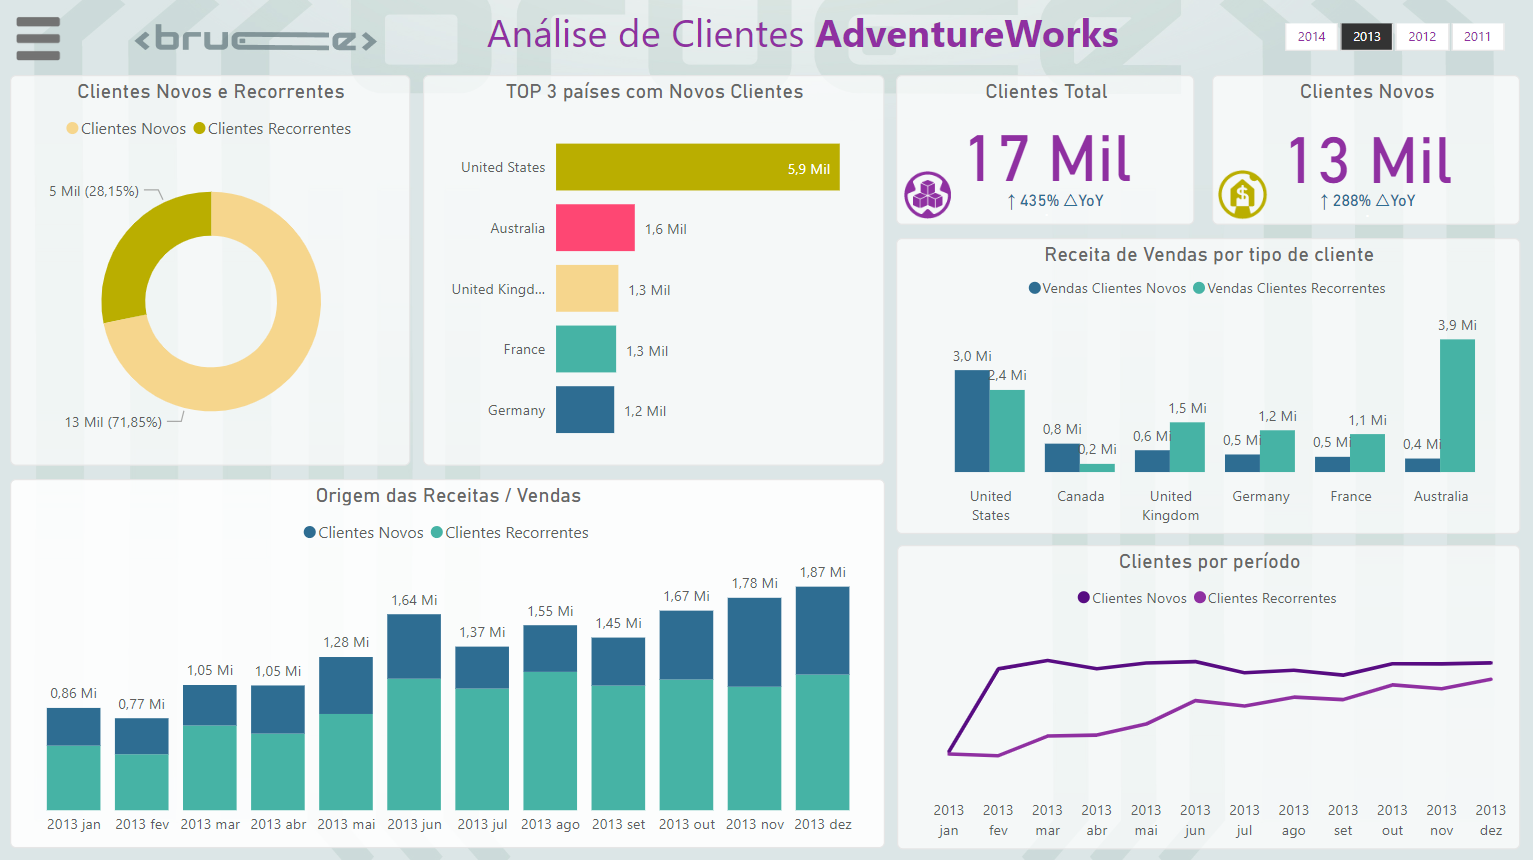

Layout of this report page (visuals, bound fields, positions):
{"tool":"powerbi","page":{"name":"Clientes AdventureWorks","canvas":[1280,720],"ordinal":0},"visuals":[{"type":"slicer","fields":{"Values":["DimDate.CalendarYear"]},"box":[1047.3,13.6,232.7,36.4],"z":0},{"type":"clusteredColumnChart","title":"Receita de Vendas por tipo de cliente","fields":{"Category":["DimGeography.EnglishCountryRegionName"],"Y":["#Measures.Vendas Clientes Novos","#Measures.Vendas Clientes Recorrentes"]},"box":[748.2,199.1,520.9,247.3],"z":1000},{"type":"card","title":"Clientes Novos","fields":{"Values":["#Measures.Clientes Novos"]},"box":[1011.8,63.6,257.3,125.5],"z":2000},{"type":"card","title":"Clientes Total","fields":{"Values":["#Measures.Clientes"]},"box":[748.2,63.6,249.1,125.5],"z":3000},{"type":"card","fields":{"Values":["#Measures.Clientes Novos LY Delta % txt"]},"box":[1062.3,149,159.6,39.9],"z":4000},{"type":"card","fields":{"Values":["#Measures.Clientes LY Delta % txt"]},"box":[799.8,149,162.3,39.9],"z":5000},{"type":"donutChart","title":"Clientes Novos e Recorrentes","fields":{"Y":["#Measures.Clientes Novos","#Measures.Clientes - novos"]},"box":[9.1,63.6,333.6,326.4],"z":6000},{"type":"clusteredBarChart","title":"TOP 3 países com Novos Clientes","fields":{"Y":["#Measures.Clientes Novos"],"Category":["DimGeography.EnglishCountryRegionName"]},"box":[353.6,63.6,384.5,326.4],"z":7000},{"type":"columnChart","title":"Origem das Receitas / Vendas","fields":{"Category":["DimDate.YearMonthDesc"],"Y":["#Measures.Vendas Clientes Novos","#Measures.Vendas Clientes Recorrentes"]},"box":[8.9,400.8,729.8,307.7],"z":8000},{"type":"lineChart","title":"Clientes por período","fields":{"Category":["DimDate.YearMonthDesc"],"Y":["#Measures.Clientes Novos","#Measures.Clientes Recorrentes"]},"box":[749.1,455.5,520,253.6],"z":9000},{"type":"textbox","box":[343.6,0,653.6,63.6],"z":10000},{"type":"image","box":[749.1,138.2,50.9,50],"z":11000},{"type":"image","box":[1011.8,137.3,50.9,50.9],"z":12000},{"type":"image","box":[8.9,7.1,47,49.7],"z":13000},{"type":"actionButton","box":[0,0,63,63.8],"z":14000}]}

Visuals, with their boxes in screenshot pixels (x1, y1, x2, y2), scaled from the page's 1280x720 canvas onto the 1533x860 screenshot:
slicer - DimDate.CalendarYear: select_region(1254, 16, 1532, 60)
"Receita de Vendas por tipo de cliente" clusteredColumnChart: select_region(896, 238, 1520, 533)
"Clientes Novos" card: select_region(1212, 76, 1520, 226)
"Clientes Total" card: select_region(896, 76, 1194, 226)
card - #Measures.Clientes Novos LY Delta % txt: select_region(1272, 178, 1463, 226)
card - #Measures.Clientes LY Delta % txt: select_region(958, 178, 1152, 226)
"Clientes Novos e Recorrentes" donutChart: select_region(11, 76, 410, 466)
"TOP 3 países com Novos Clientes" clusteredBarChart: select_region(423, 76, 884, 466)
"Origem das Receitas / Vendas" columnChart: select_region(11, 479, 885, 846)
"Clientes por período" lineChart: select_region(897, 544, 1520, 847)
textbox: select_region(412, 0, 1194, 76)
image: select_region(897, 165, 958, 225)
image: select_region(1212, 164, 1273, 225)
image: select_region(11, 8, 67, 68)
actionButton: select_region(0, 0, 75, 76)
